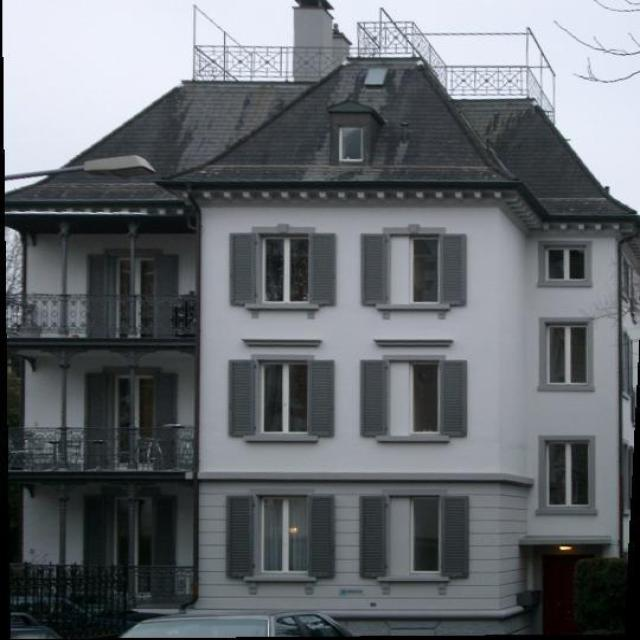glass panel: (413, 497, 438, 570), (412, 363, 438, 432), (413, 238, 438, 302), (263, 498, 283, 571), (288, 498, 307, 570), (263, 364, 282, 431), (289, 363, 307, 431), (264, 238, 283, 301), (290, 238, 308, 301), (548, 443, 566, 505), (571, 443, 588, 504), (570, 327, 587, 383), (548, 326, 565, 382), (340, 127, 362, 160), (547, 249, 563, 279), (569, 249, 584, 279)
